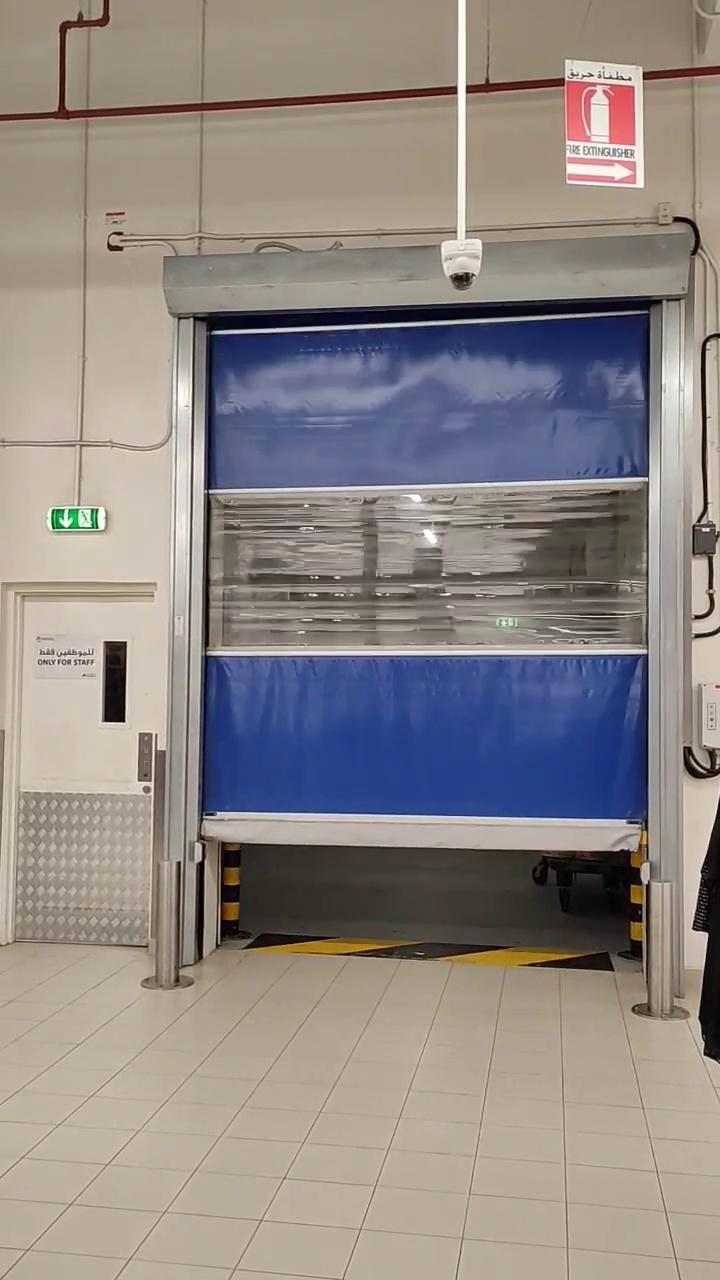Strip: (246, 928, 611, 971)
